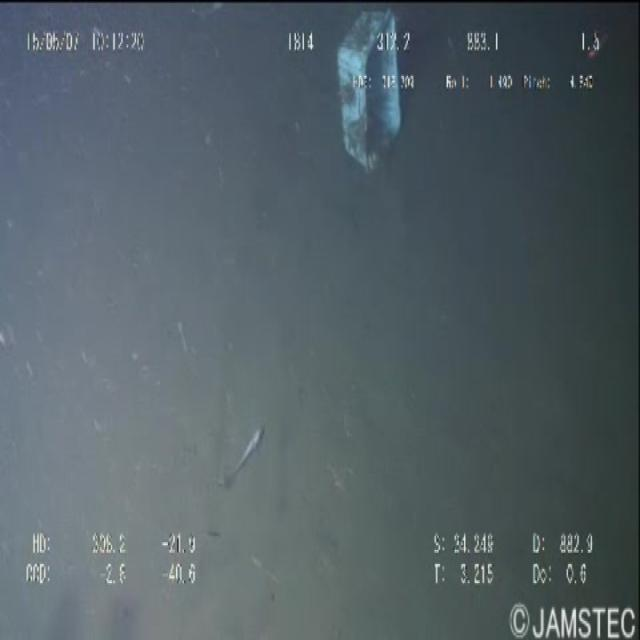Natual-Debris: (332, 3, 409, 174), (210, 416, 272, 485)
